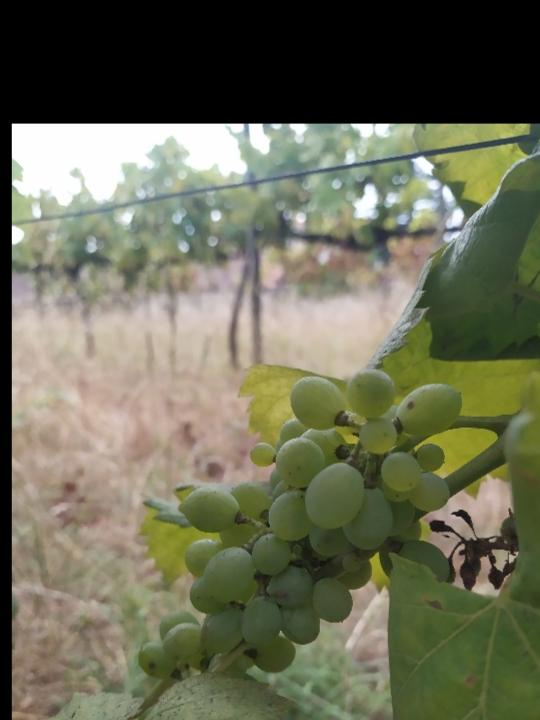grape: (136, 366, 467, 684)
